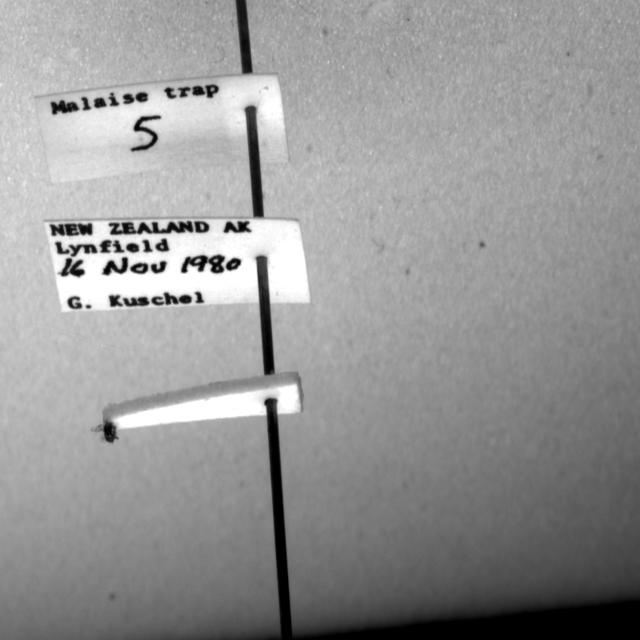hand_label: (35, 73, 289, 182), (45, 218, 310, 311)
